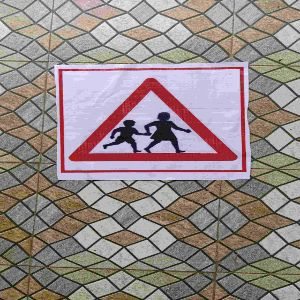schools: (62, 72, 245, 173)
